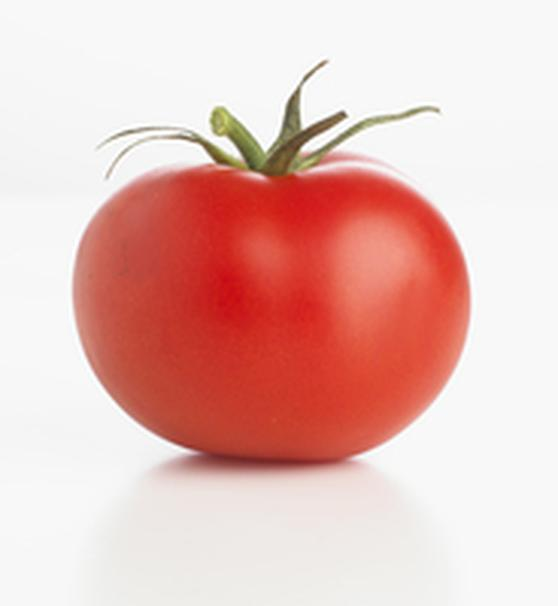tomato: (62, 83, 478, 468)
